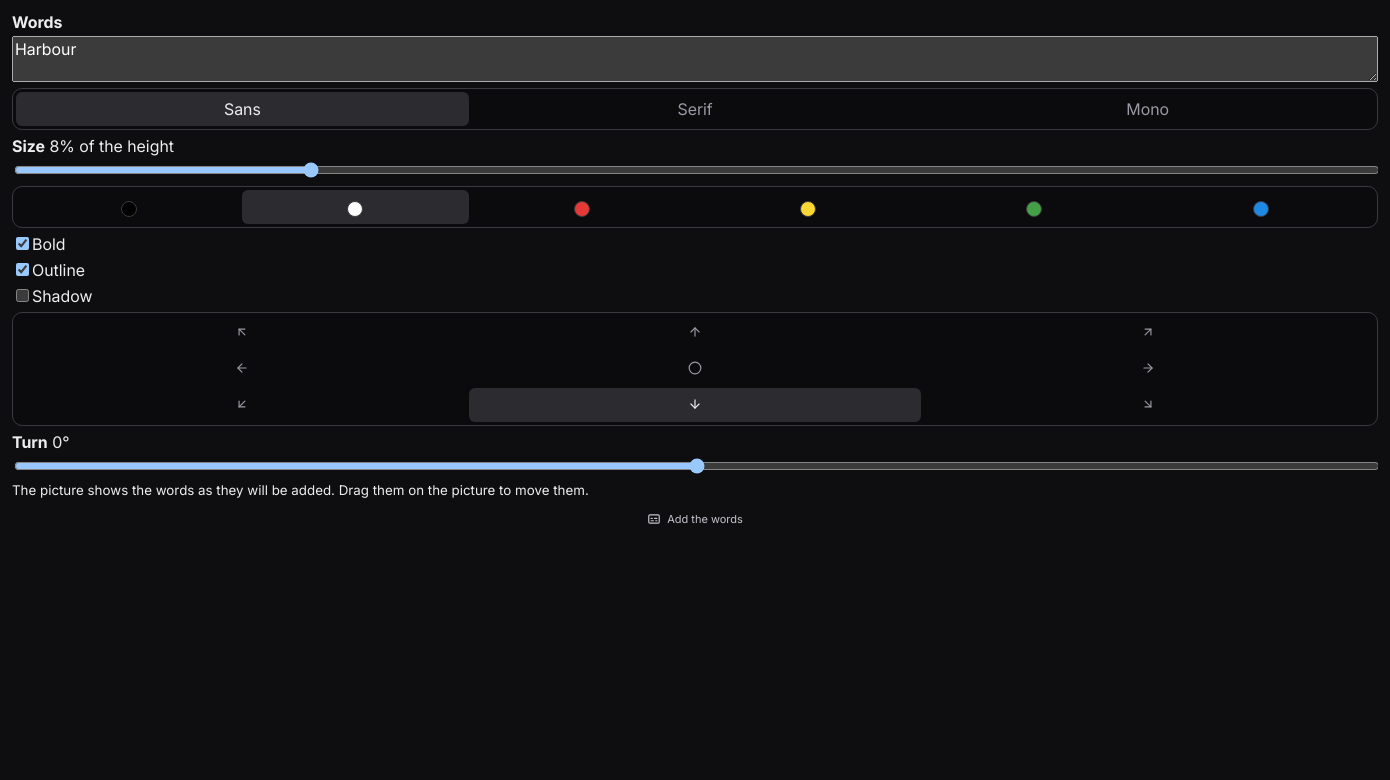
the words panel › says so when the words cannot be drawn
Click the button "Add the words" at (695,519), box [12,504,1378,534]
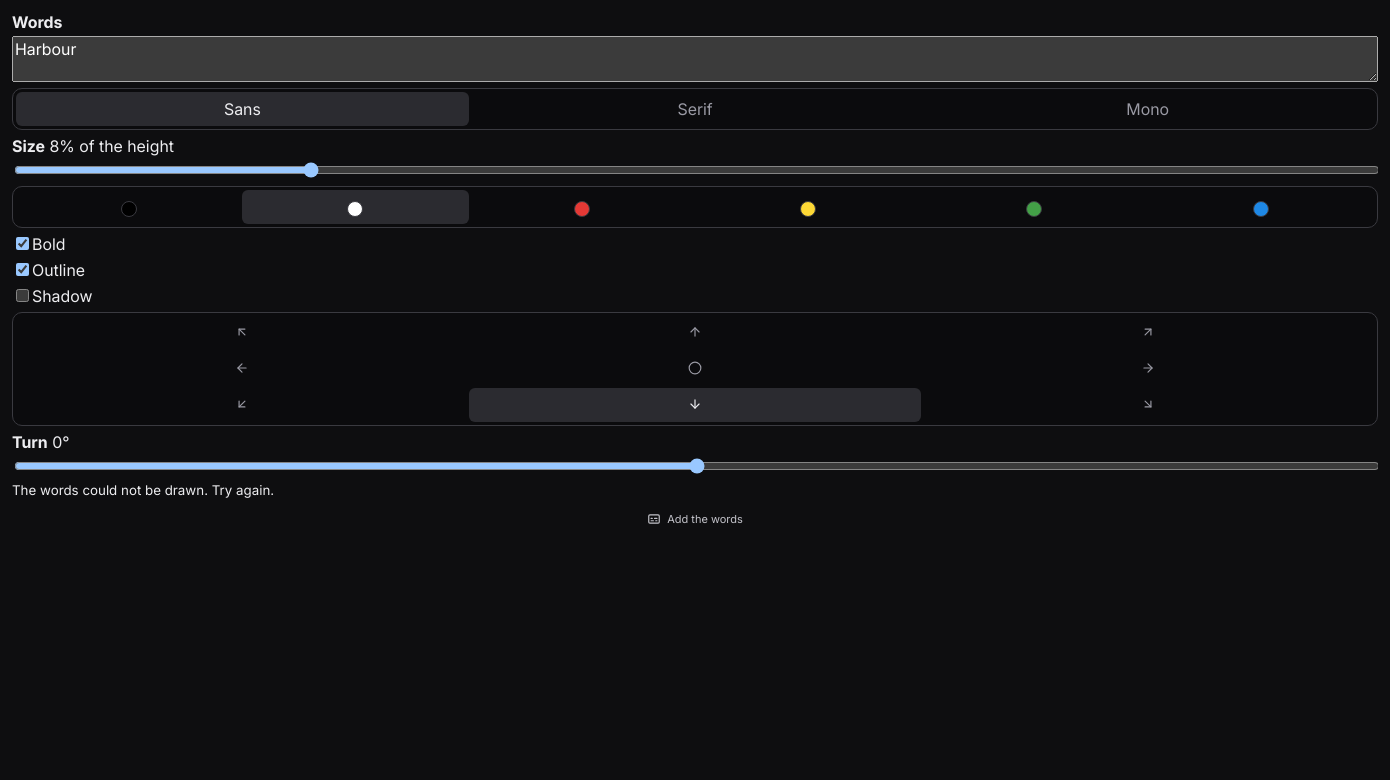
Expected: the message reads "The words could not be drawn. Try again.", [12,482,274,498]
